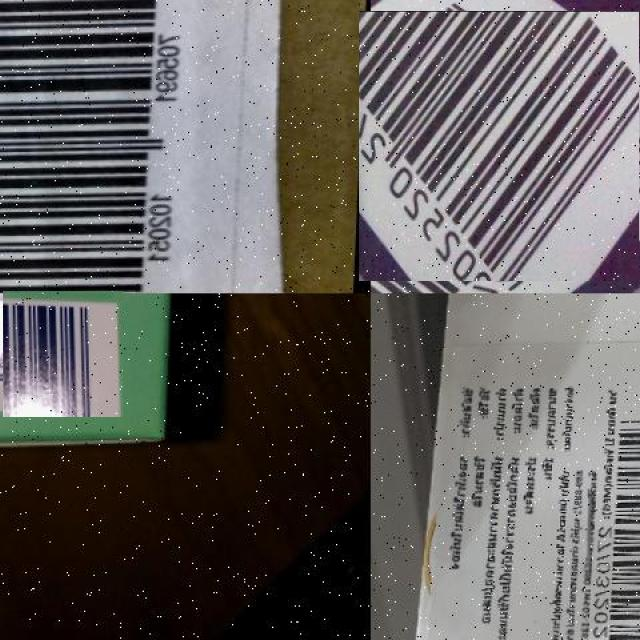Barcode: (364, 5, 640, 287), (0, 0, 217, 293), (2, 292, 125, 415), (601, 405, 640, 640)
